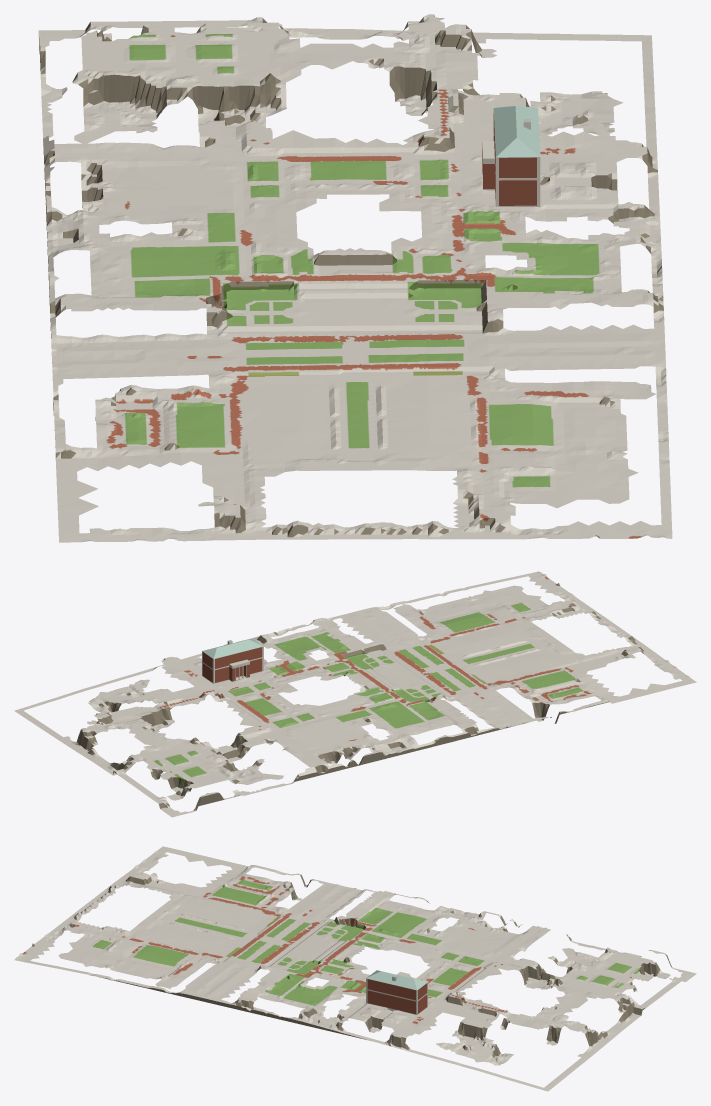
The model's file is columbia-avery.glb.
3 renders of one model, top to bottom at view 1: azimuth 30°, elevation 25°; view 2: azimuth 150°, elevation 25°; view 3: azimuth 270°, elevation 25°, orthographic. The views are drawn at different scales.
Visible parts, largest first — view 1: Columbia University, Avery Hall; view 2: Columbia University, Avery Hall; view 3: Columbia University, Avery Hall.
Boxes of the visible parts, box(x1,y1,x2,y2) form: Columbia University, Avery Hall: box(38, 14, 672, 542); Columbia University, Avery Hall: box(14, 571, 696, 817); Columbia University, Avery Hall: box(14, 846, 696, 1091).
Bounding box in the file's own units: 434 × 42.8 × 525.
Materials: 6 (1 with a texture image).
